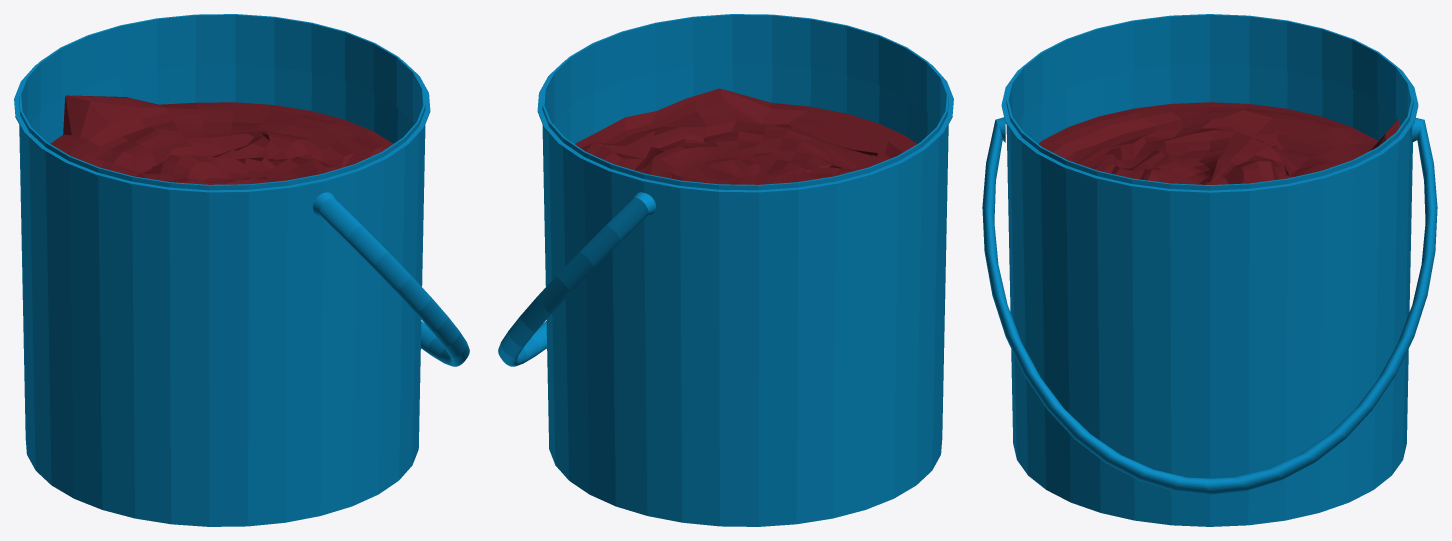
Rendered from bote.glb.
3 renders of one model, left to right at view 1: azimuth 30°, elevation 25°; view 2: azimuth 150°, elevation 25°; view 3: azimuth 270°, elevation 25°, orthographic.
Visible parts, largest first — view 1: bote, salsa; view 2: bote, salsa; view 3: bote, salsa.
Boxes of the visible parts, x1=… form: bote: x1=14, y1=14, x2=469, y2=526; salsa: x1=50, y1=95, x2=393, y2=184; bote: x1=498, y1=14, x2=953, y2=526; salsa: x1=575, y1=88, x2=916, y2=184; bote: x1=982, y1=14, x2=1437, y2=526; salsa: x1=1039, y1=102, x2=1400, y2=184.
Bounding box in the file's own units: 0.7567 × 0.6334 × 0.76.
